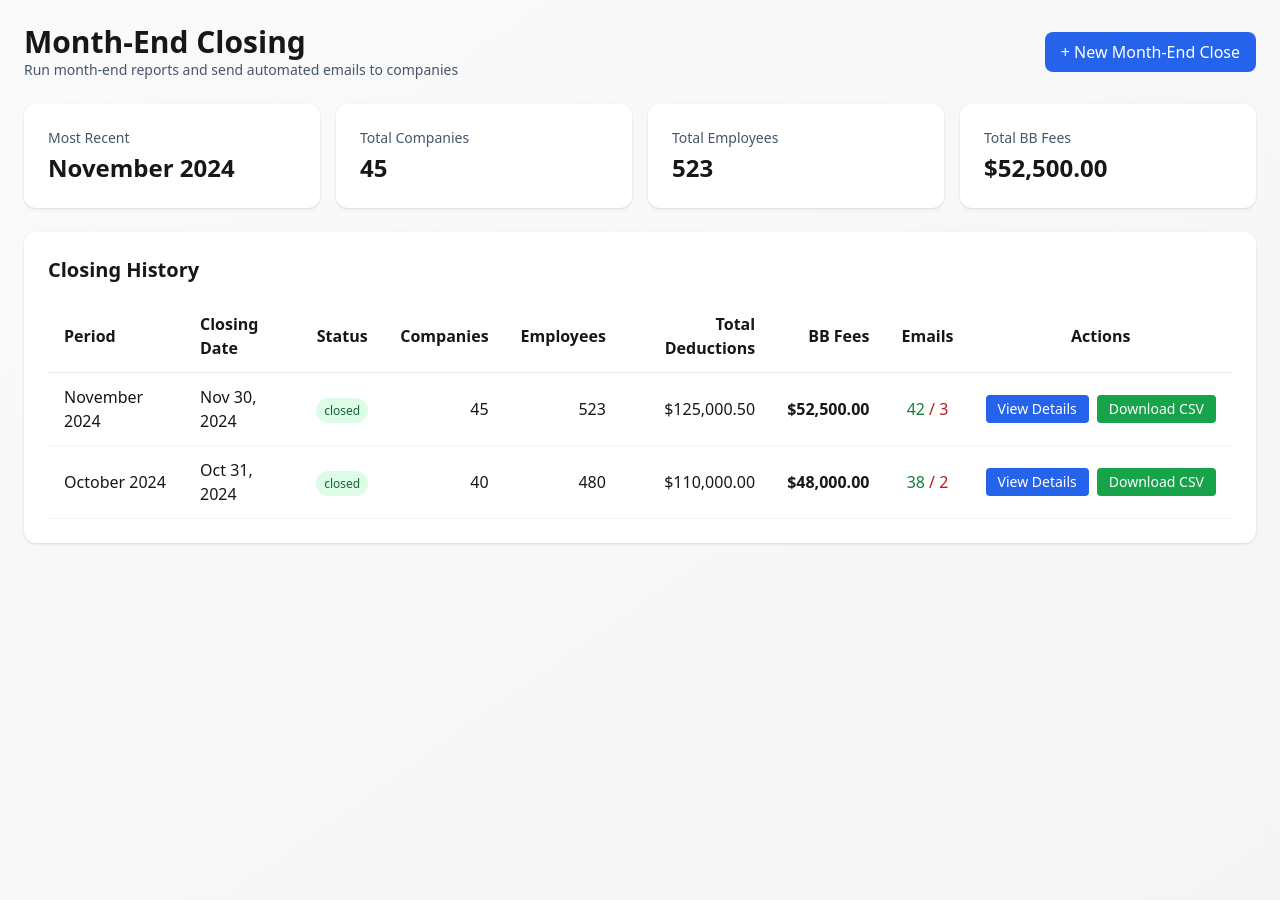
Test case: MonthEndManager Component › New Closing Modal › should have send emails checkbox checked by default
Click the button "+ New Month-End Close" at {"x": 1150, "y": 52}, box [1045,32,1256,72]
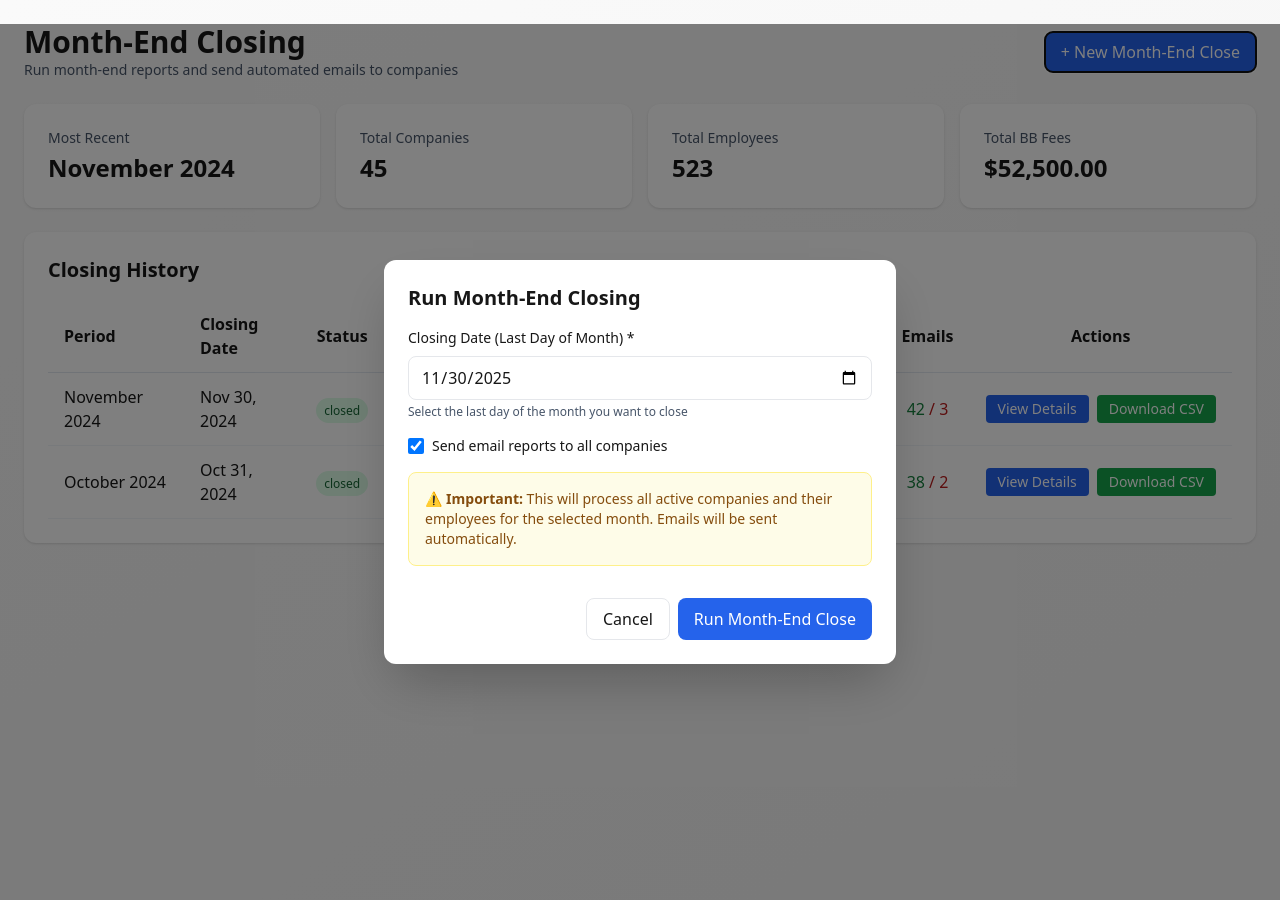
Check: the checkbox labelled "Send email reports to all companies" is checked, box [408,438,424,454]
